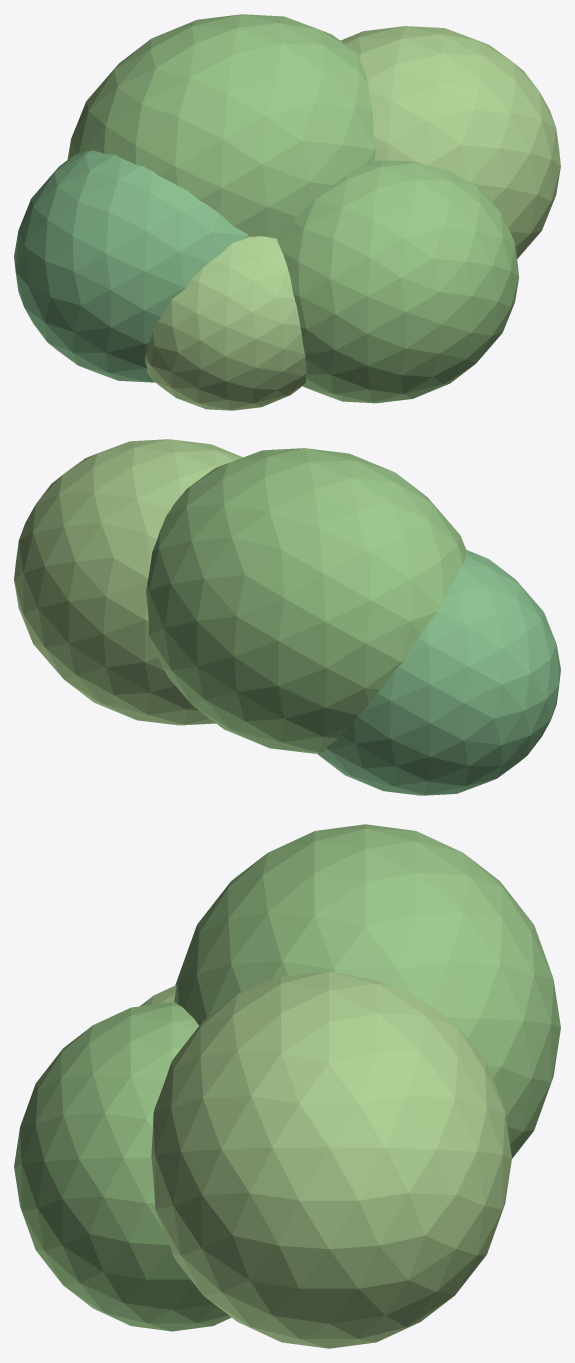
File: bush_small.glb
3 renders of one model, top to bottom at view 1: azimuth 30°, elevation 25°; view 2: azimuth 150°, elevation 25°; view 3: azimuth 270°, elevation 25°, orthographic. The views are drawn at different scales.
Visible parts, largest first — view 1: bush_small_01_leaves, bush_small_03_leaves, bush_small_00_leaves, bush_small_02_leaves, bush_small_04_leaves; view 2: bush_small_01_leaves, bush_small_02_leaves, bush_small_00_leaves; view 3: bush_small_02_leaves, bush_small_01_leaves, bush_small_03_leaves.
Part boxes in pixels (box(x1,y1,x2,y2)): bush_small_01_leaves: box(67, 14, 375, 238); bush_small_03_leaves: box(277, 160, 519, 403); bush_small_00_leaves: box(14, 150, 248, 382); bush_small_02_leaves: box(340, 26, 560, 258); bush_small_04_leaves: box(145, 236, 306, 410); bush_small_01_leaves: box(146, 448, 466, 753); bush_small_02_leaves: box(14, 439, 242, 725); bush_small_00_leaves: box(317, 550, 560, 795); bush_small_02_leaves: box(151, 971, 511, 1348); bush_small_01_leaves: box(174, 824, 560, 1158); bush_small_03_leaves: box(14, 1002, 231, 1331).
Bounding box in the file's own units: 1.52 × 0.9147 × 1.08.
